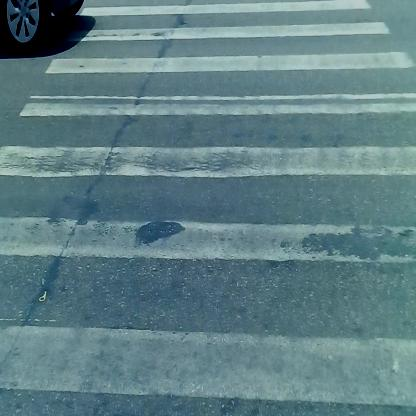crosswalk: (10, 8, 401, 416)
